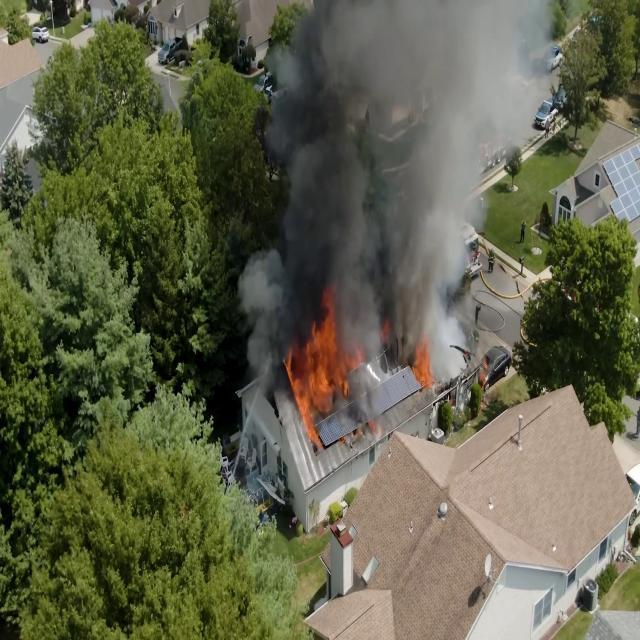Fire: (277, 293, 379, 422), (412, 344, 437, 392)
Smoke: (286, 32, 453, 302), (390, 34, 445, 308)
